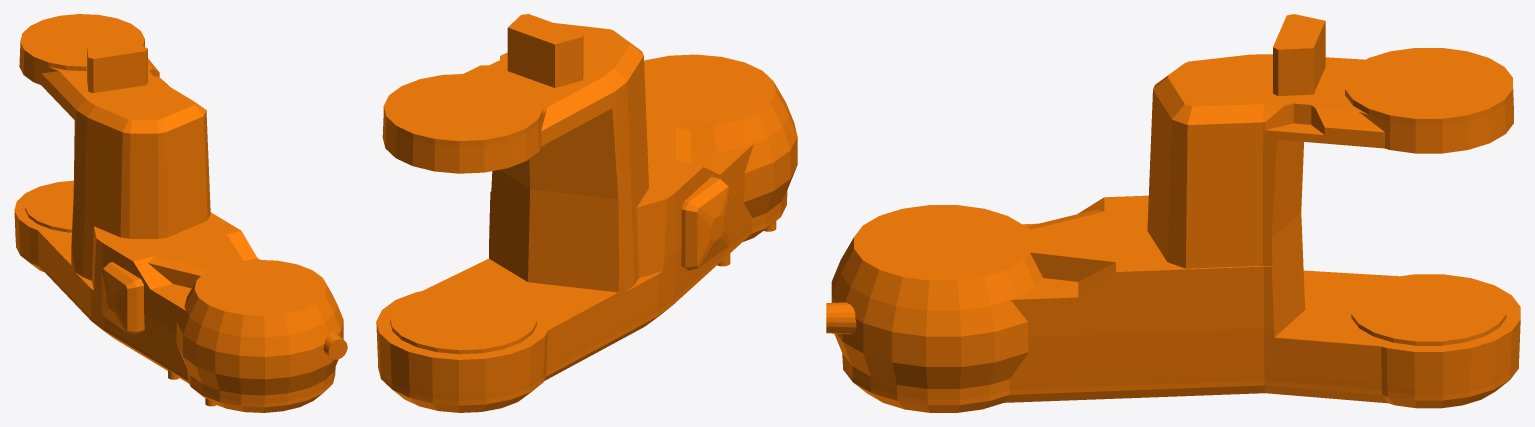
The picture shows the model from 3 angles, left to right: view 1: azimuth 30°, elevation 25°; view 2: azimuth 150°, elevation 25°; view 3: azimuth 270°, elevation 25°; orthographic projection. The views are drawn at different scales.
Visible parts, largest first — view 1: <STL_BINARY>.001; view 2: <STL_BINARY>.001; view 3: <STL_BINARY>.001.
Boxes of the visible parts, x1,y1,x2,y2 form: <STL_BINARY>.001: (14,14,347,412); <STL_BINARY>.001: (376,14,797,412); <STL_BINARY>.001: (826,14,1520,412).
Size of the model in its own units: 0.7165 by 1.08 by 2.03.
